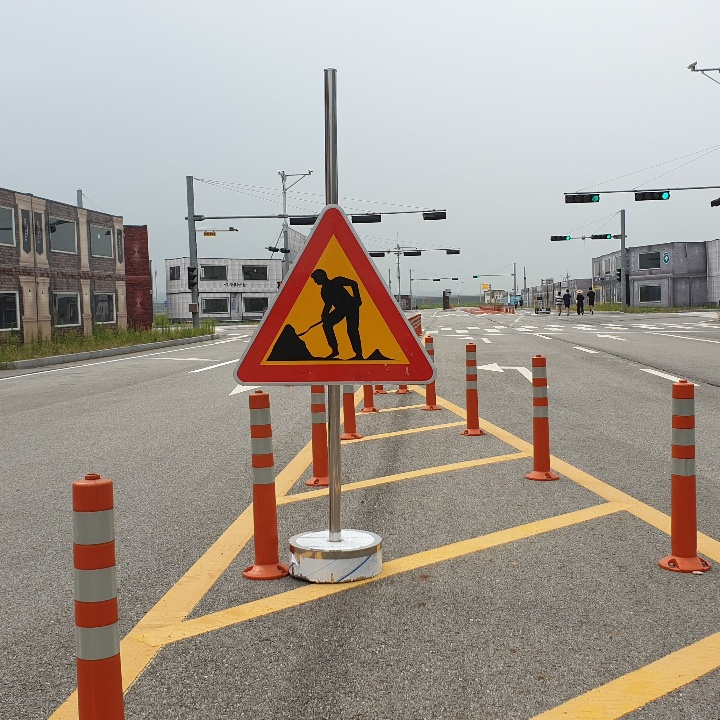const: (264, 262, 404, 363)
